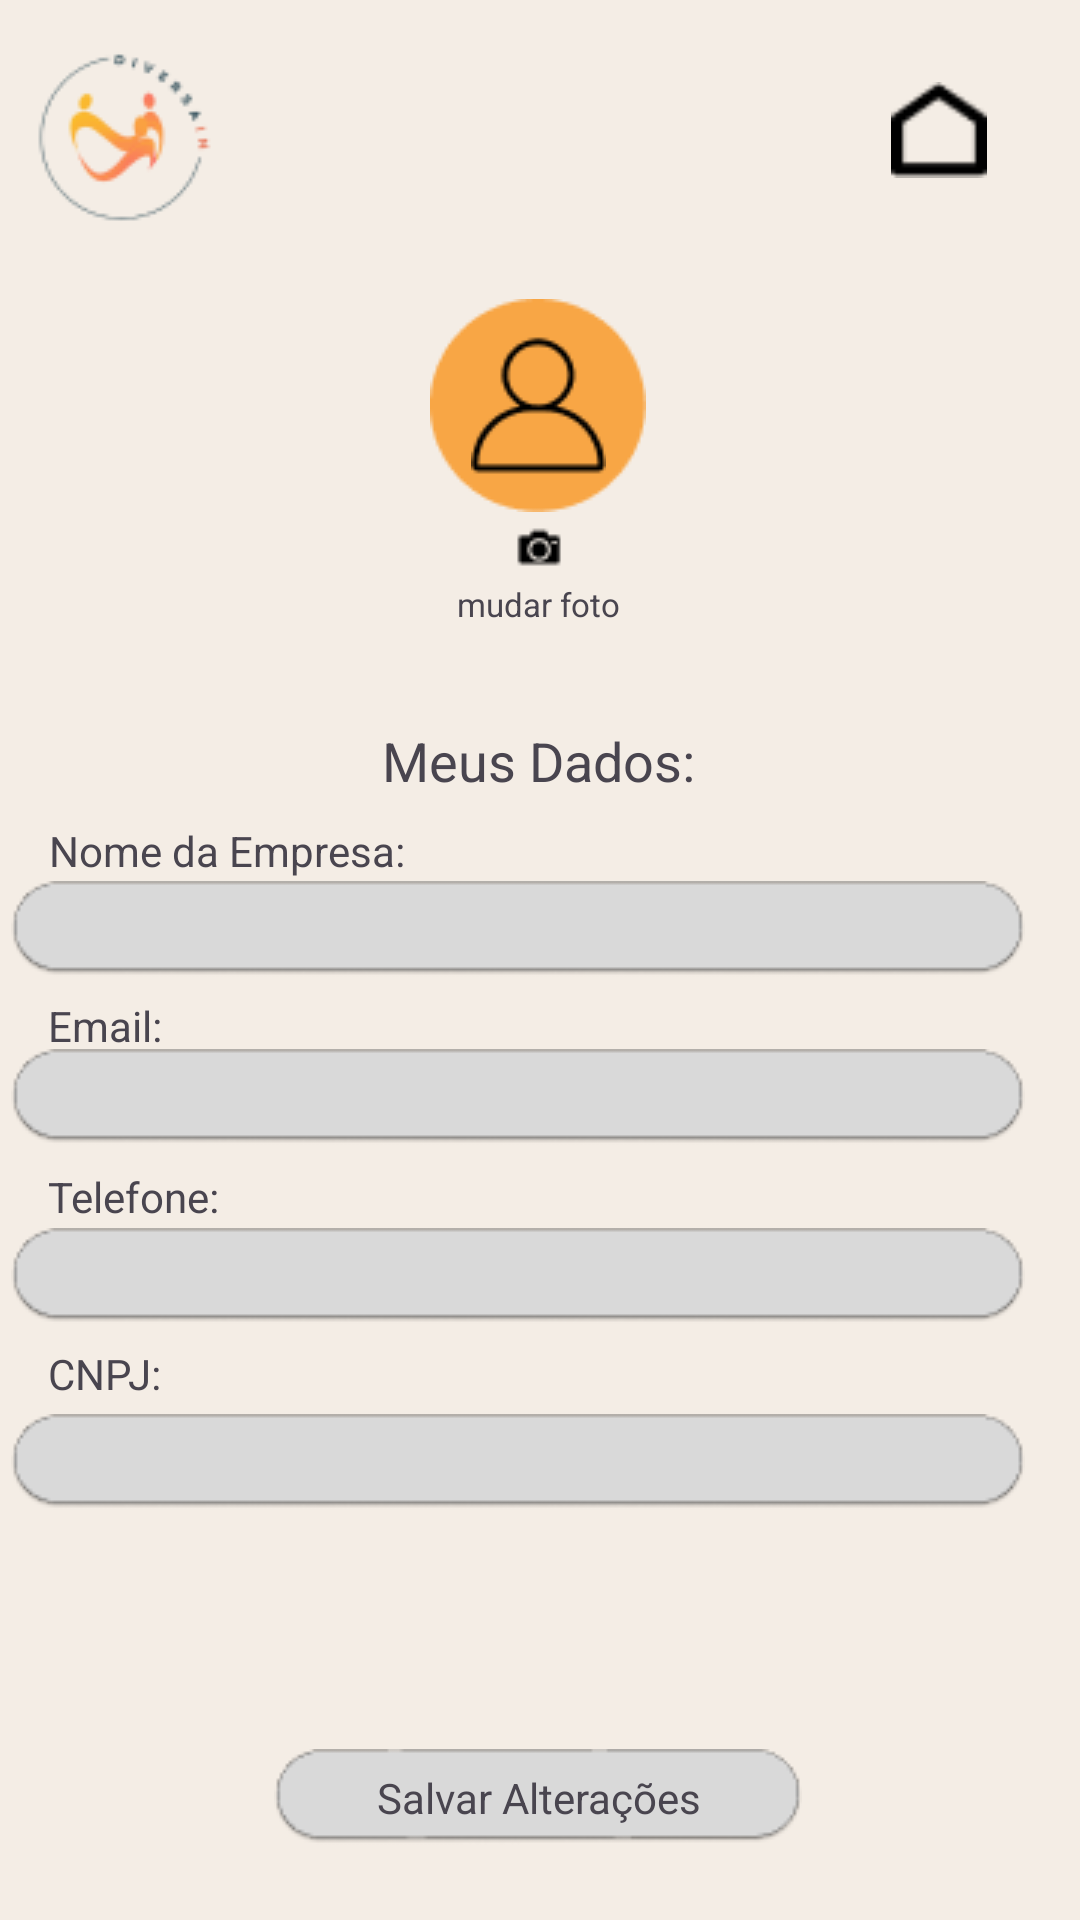

Screen size 1080 × 1920. Icon name, then its center in pixels as (x,y):
casinha: (939,130)
imagem da camera: (539,547)
